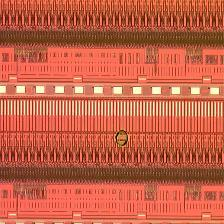PARTICLE: (113, 129, 133, 149)
